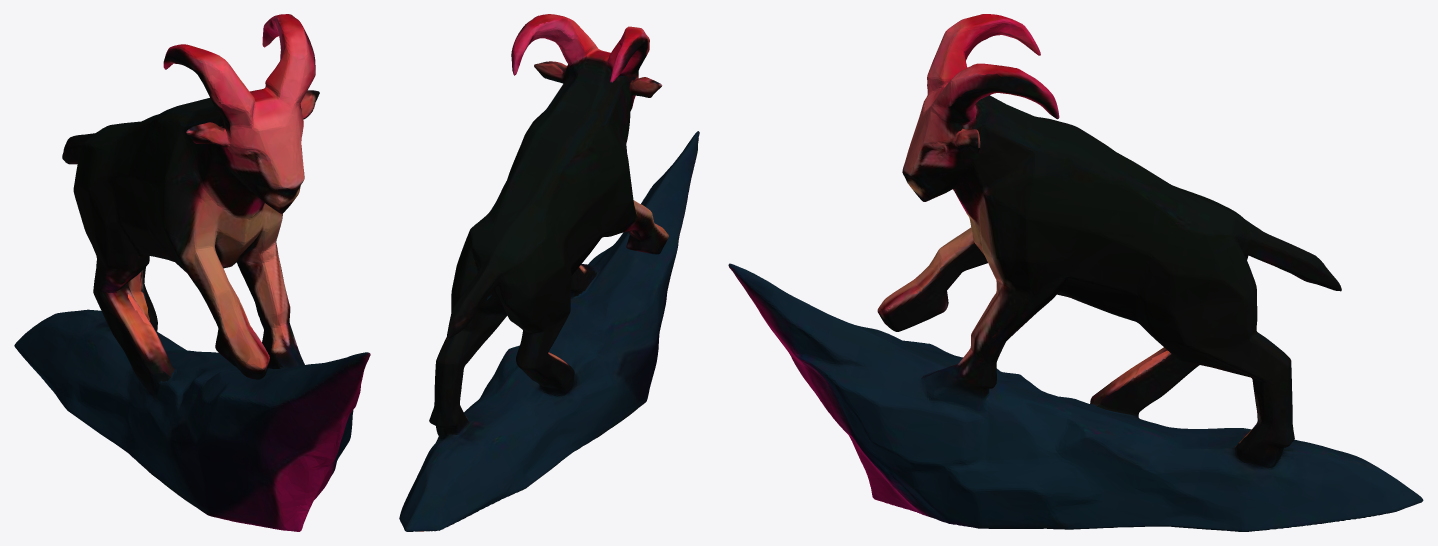
The model's file is STONETREADER.glb.
3 views of the same model, side by side, from view 1: azimuth 30°, elevation 25°; view 2: azimuth 150°, elevation 25°; view 3: azimuth 270°, elevation 25° (orthographic). The views are drawn at different scales.
Parts seen in each view (by area): view 1: STONETREADER; view 2: STONETREADER; view 3: STONETREADER.
Part boxes in pixels (<box>): STONETREADER: <box>14,14,370,531</box>; STONETREADER: <box>399,14,699,531</box>; STONETREADER: <box>728,14,1423,531</box>.
Bounding box in the file's own units: 0.4789 × 1.45 × 1.99.
1 material, 1 textured.
